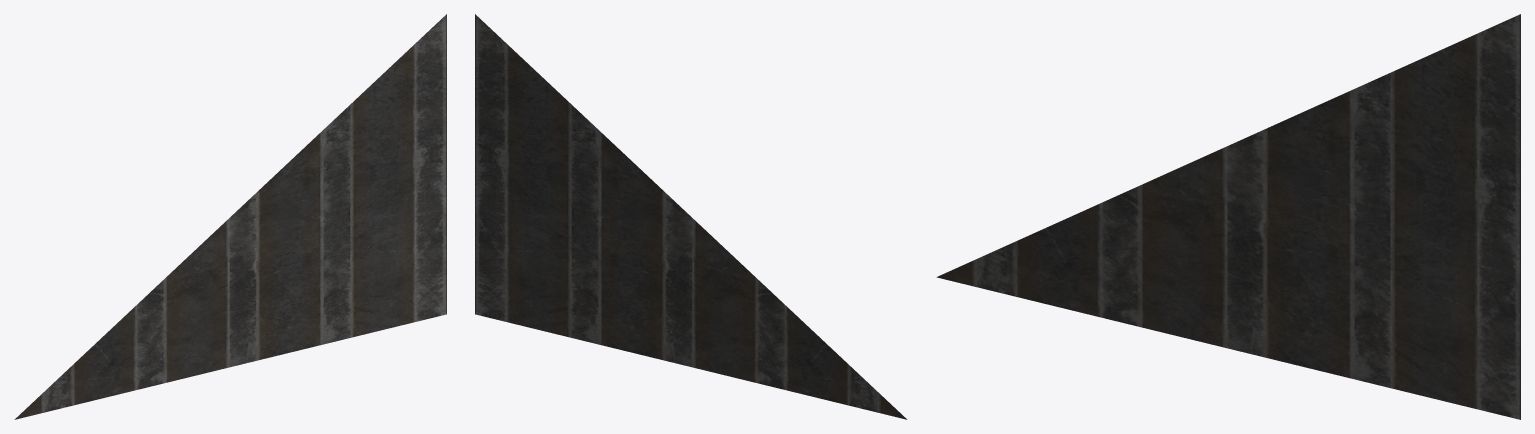
The model's file is triangle03.fbx.
3 views of the same model, side by side, from view 1: azimuth 30°, elevation 25°; view 2: azimuth 150°, elevation 25°; view 3: azimuth 330°, elevation 25° (orthographic). The views are drawn at different scales.
Parts seen in each view (by area): view 1: triangle03; view 2: triangle03; view 3: triangle03.
Part boxes in pixels (x1,y1,x2,y2): triangle03: (14,14,446,419); triangle03: (475,14,907,419); triangle03: (936,14,1520,419).
Size of the model in its own units: 200 by 133 by 0.
